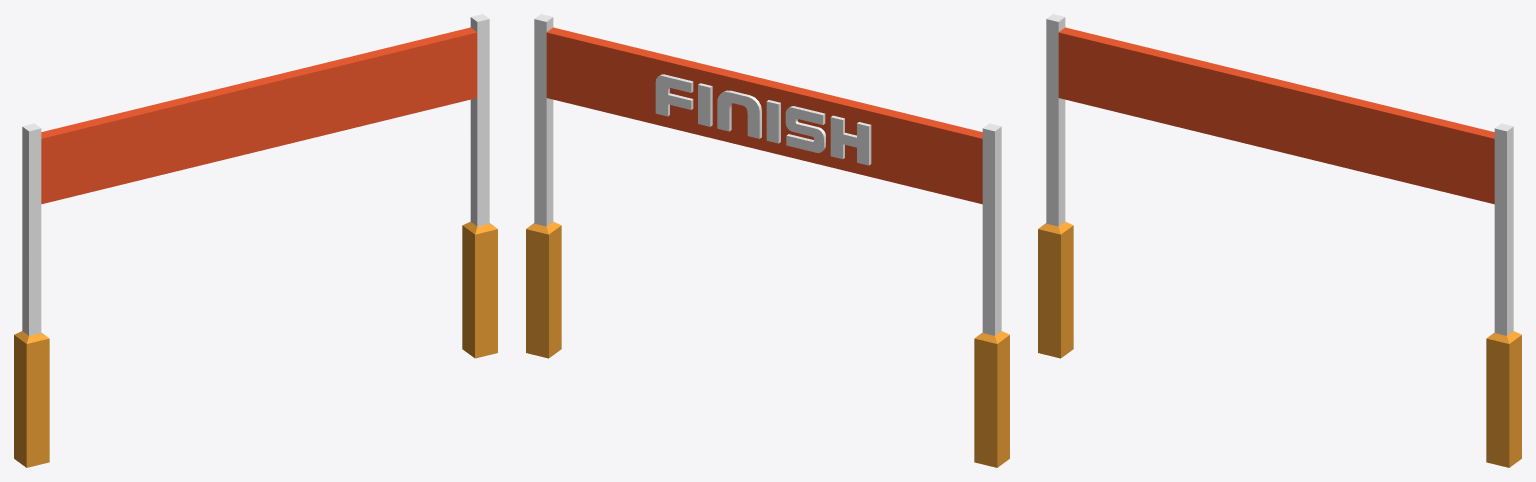
File: finish.fbx
3 views of the same model, side by side, from view 1: azimuth 30°, elevation 25°; view 2: azimuth 150°, elevation 25°; view 3: azimuth 330°, elevation 25° (orthographic).
Visible parts, largest first — view 1: Plane; view 2: Plane; view 3: Plane.
Boxes of the visible parts, bbox=[...] form: Plane: bbox=[14, 14, 497, 467]; Plane: bbox=[526, 14, 1009, 467]; Plane: bbox=[1038, 14, 1521, 467].
Size of the model in its own units: 2.44 by 1.65 by 0.1138.
1 material, 1 textured.
